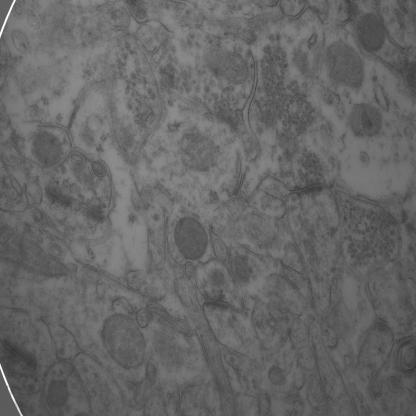mitochondria: (102, 314, 146, 370), (176, 128, 221, 172), (325, 41, 364, 88), (174, 218, 209, 262), (209, 48, 250, 84), (344, 102, 385, 137), (356, 14, 387, 50), (34, 133, 62, 163), (45, 380, 69, 407)
